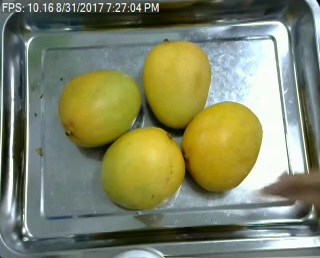Mango: (99, 126, 185, 211), (183, 102, 262, 191), (59, 70, 140, 149), (143, 40, 209, 124)
